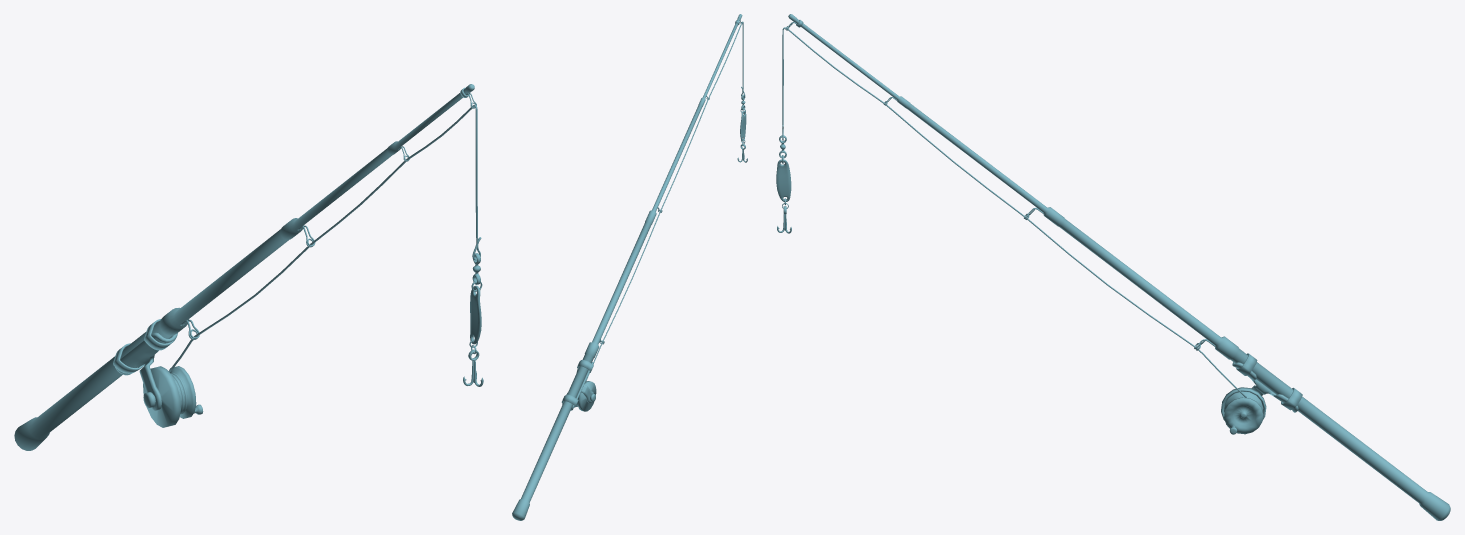
The model's file is spinig02.fbx.
The picture shows the model from 3 angles, left to right: view 1: azimuth 30°, elevation 25°; view 2: azimuth 150°, elevation 25°; view 3: azimuth 270°, elevation 25°; orthographic projection. The views are drawn at different scales.
Visible parts, largest first — view 1: spining01; view 2: spining01; view 3: spining01.
Part boxes in pixels (<box>): spining01: <box>14,84,483,450</box>; spining01: <box>512,14,747,520</box>; spining01: <box>776,14,1450,520</box>.
Size of the model in its own units: 9.13 by 126 by 152.
